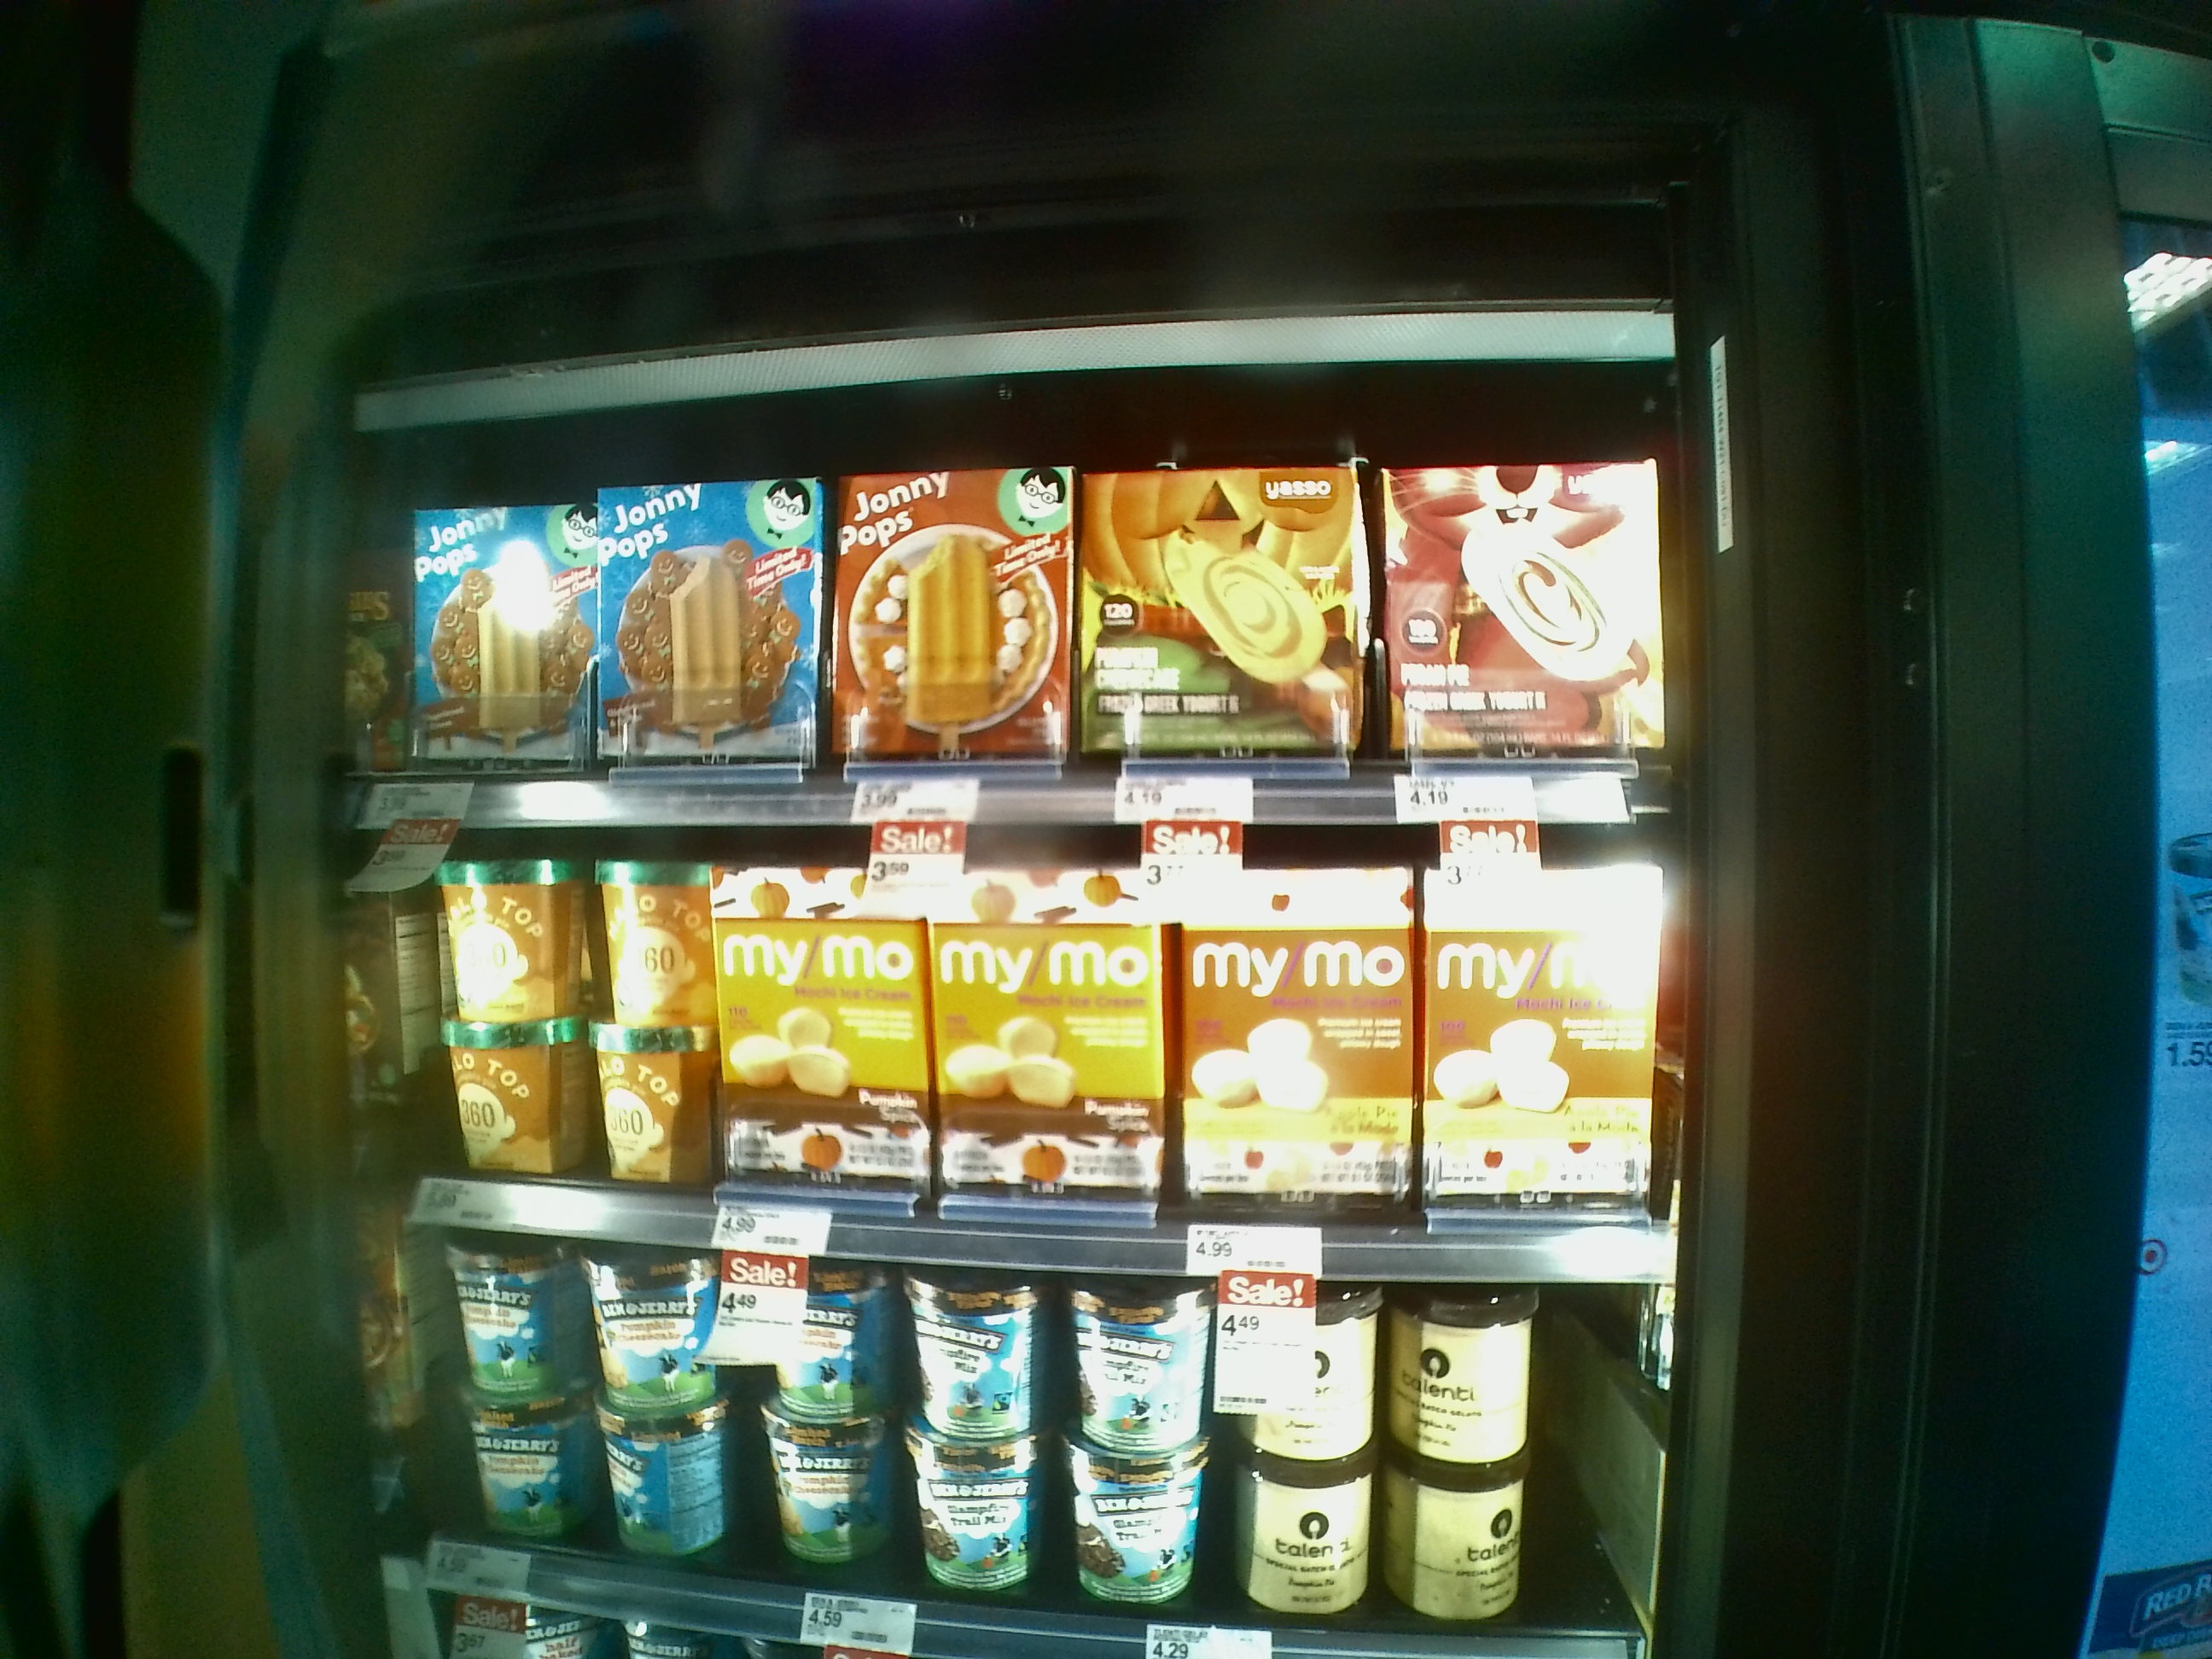shelf: (347, 816, 1667, 1272), (354, 411, 1677, 835)
